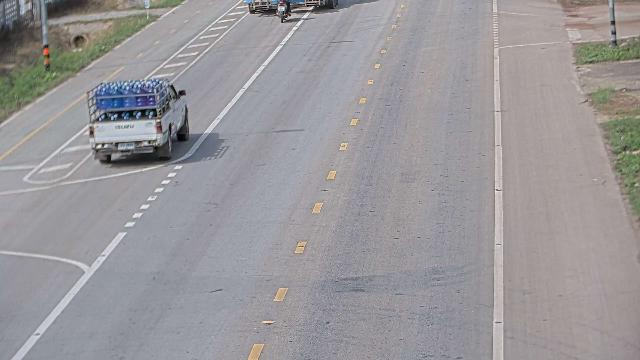pickup-truck: (85, 76, 190, 163)
